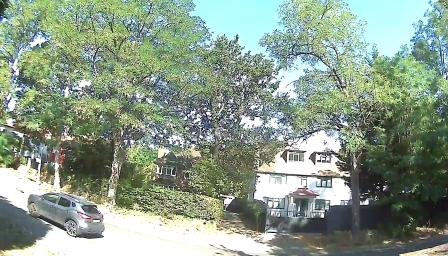Cars: (26, 178, 119, 246)
